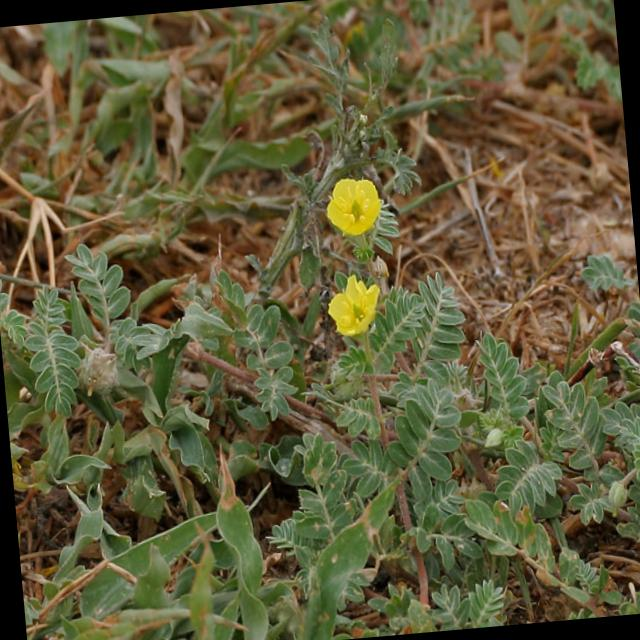Gokharu: (30, 416, 622, 640), (216, 110, 505, 452), (341, 266, 640, 574), (0, 239, 305, 510), (302, 297, 566, 600)
